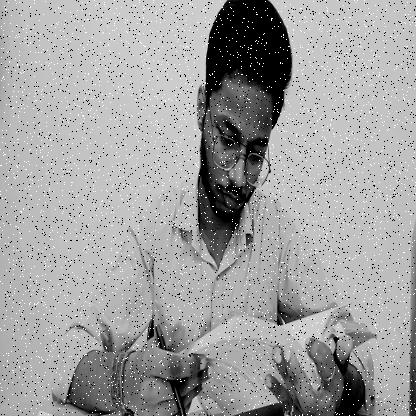Distracted: (199, 0, 292, 230)
